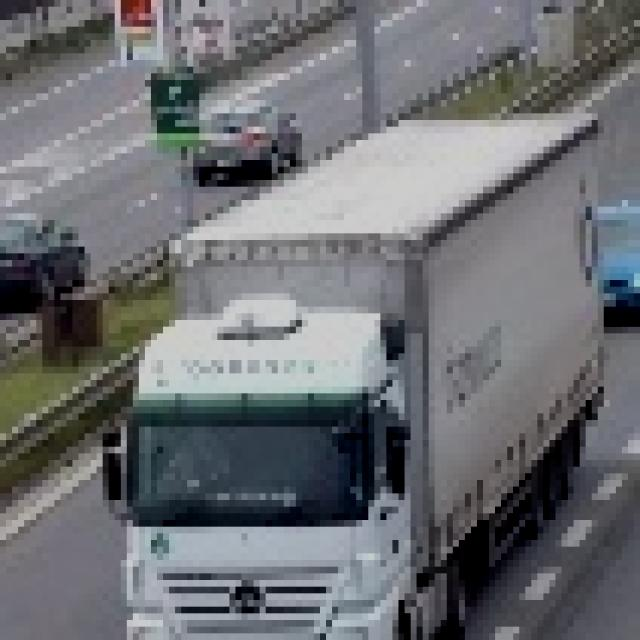SUV: (192, 108, 300, 180)
TRUCK: (109, 120, 604, 640)
